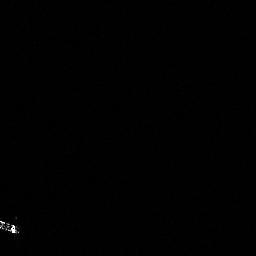ship: (1, 216, 23, 239)
